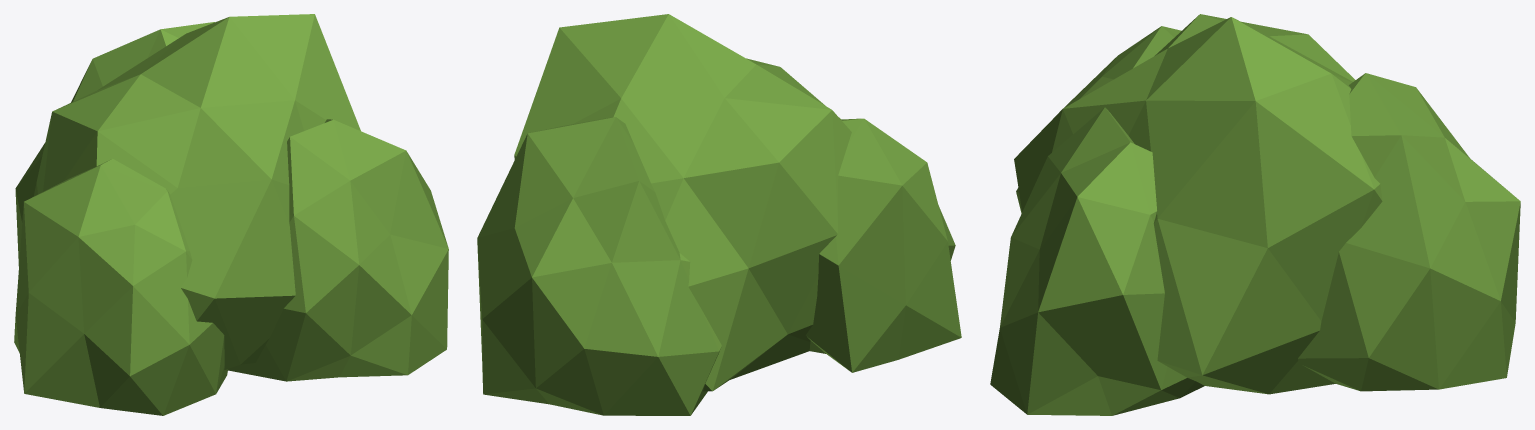
Rendered from shrub_b.glb.
3 renders of one model, left to right at view 1: azimuth 30°, elevation 25°; view 2: azimuth 150°, elevation 25°; view 3: azimuth 270°, elevation 25°, orthographic. The views are drawn at different scales.
Visible parts, largest first — view 1: shrub; view 2: shrub; view 3: shrub.
Boxes of the visible parts, <box> form: shrub: <box>14,14,448,415</box>; shrub: <box>477,14,961,415</box>; shrub: <box>990,14,1520,415</box>.
Bounding box in the file's own units: 2.6 × 1.85 × 2.69.
